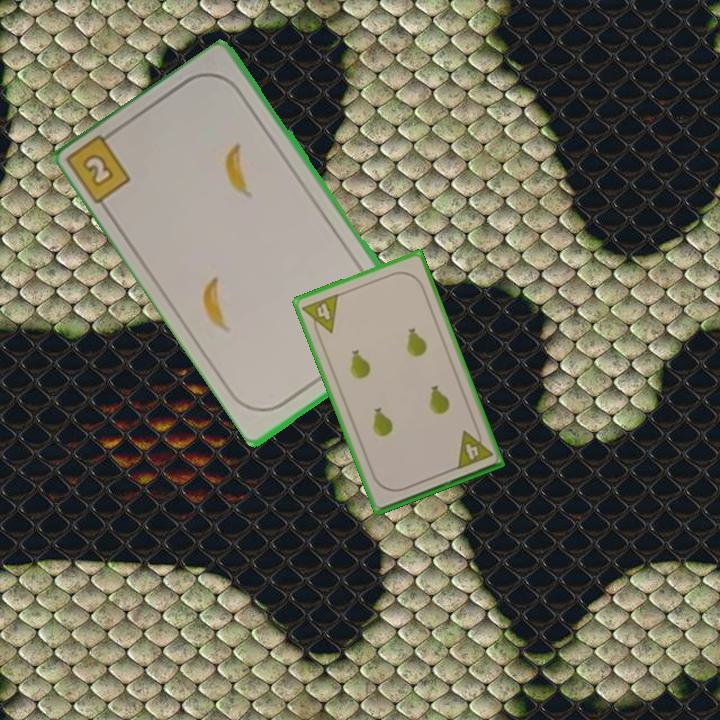2b: (66, 124, 135, 208)
4p: (299, 290, 341, 340), (453, 423, 495, 472)
